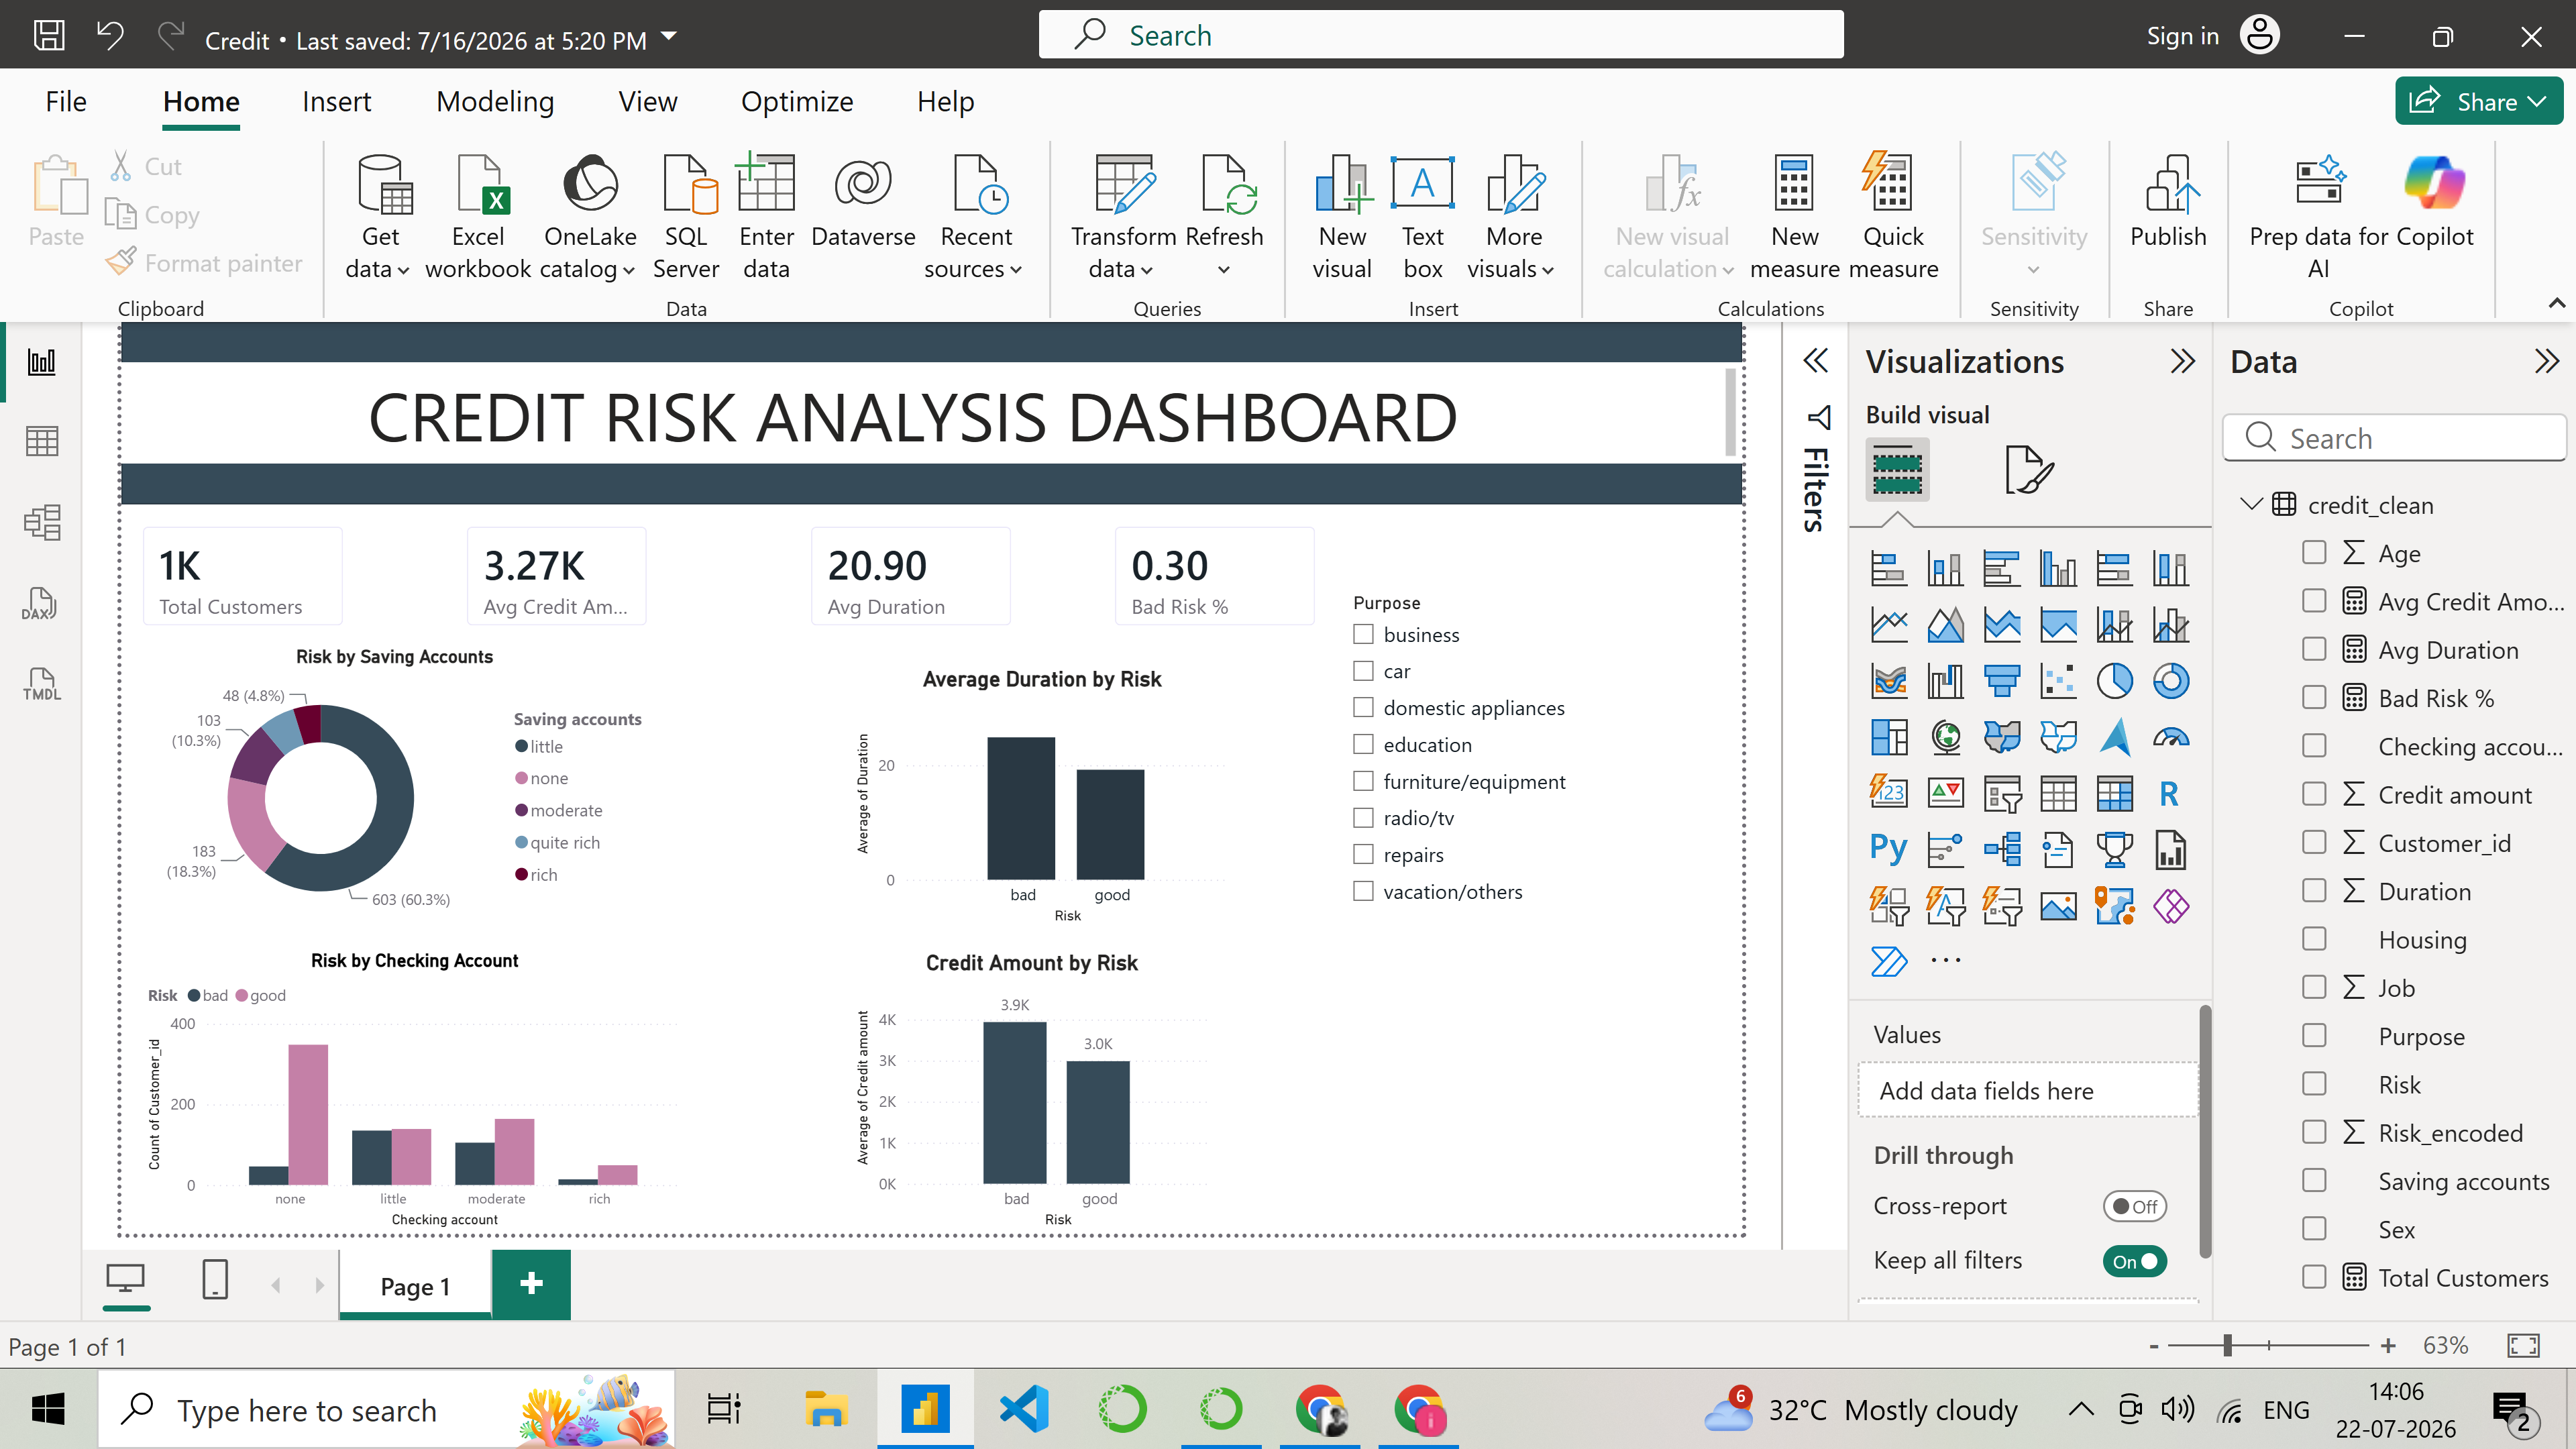

The page's visual inventory and layout, read from the dashboard file:
{"tool":"powerbi","page":{"name":"Page 1","canvas":[1280,720],"ordinal":0},"visuals":[{"type":"cardVisual","fields":{"Data":["credit_clean.Total Customers"]},"box":[0,144,192,112],"z":0},{"type":"clusteredColumnChart","title":"Risk by Checking Account","fields":{"Category":["credit_clean.Checking account"],"Series":["credit_clean.Risk"],"Y":["CountNonNull(credit_clean.Customer_id)"]},"box":[16,496,432,224],"z":1000},{"type":"donutChart","title":" Risk by Saving Accounts","fields":{"Y":["CountNonNull(credit_clean.Customer_id)"],"Category":["credit_clean.Saving accounts"]},"box":[0,256,432,224],"z":2000},{"type":"clusteredColumnChart","title":"Credit Amount by Risk","fields":{"Category":["credit_clean.Risk"],"Y":["Avg(credit_clean.Credit amount)"]},"box":[576,496,288,224],"z":3000},{"type":"clusteredColumnChart","title":"Average Duration by Risk","fields":{"Category":["credit_clean.Risk"],"Y":["Avg(credit_clean.Duration)"]},"box":[576,272,304,208],"z":4000},{"type":"shape","box":[0,0,1280,144],"z":5000},{"type":"textbox","box":[0,32,1280,80],"z":6000},{"type":"cardVisual","fields":{"Data":["credit_clean.Avg Credit Amount"]},"box":[256,144,176,112],"z":7000},{"type":"cardVisual","fields":{"Data":["credit_clean.Avg Duration"]},"box":[528,144,192,112],"z":8000},{"type":"cardVisual","fields":{"Data":["credit_clean.Bad Risk %"]},"box":[768,144,192,112],"z":9000},{"type":"slicer","fields":{"Values":["credit_clean.Purpose"]},"box":[928,144,208,288],"z":10000}]}

Visuals, with their boxes on the page's 1280x720 design canvas (x1, y1, x2, y2). These are canvas units, not pixel positions in the 2576x1449 screenshot, which may show the page scaled, cropped or inside an application window:
cardVisual - credit_clean.Total Customers: (0, 144, 192, 256)
"Risk by Checking Account" clusteredColumnChart: (16, 496, 448, 720)
" Risk by Saving Accounts" donutChart: (0, 256, 432, 480)
"Credit Amount by Risk" clusteredColumnChart: (576, 496, 864, 720)
"Average Duration by Risk" clusteredColumnChart: (576, 272, 880, 480)
shape: (0, 0, 1280, 144)
textbox: (0, 32, 1280, 112)
cardVisual - credit_clean.Avg Credit Amount: (256, 144, 432, 256)
cardVisual - credit_clean.Avg Duration: (528, 144, 720, 256)
cardVisual - credit_clean.Bad Risk %: (768, 144, 960, 256)
slicer - credit_clean.Purpose: (928, 144, 1136, 432)
